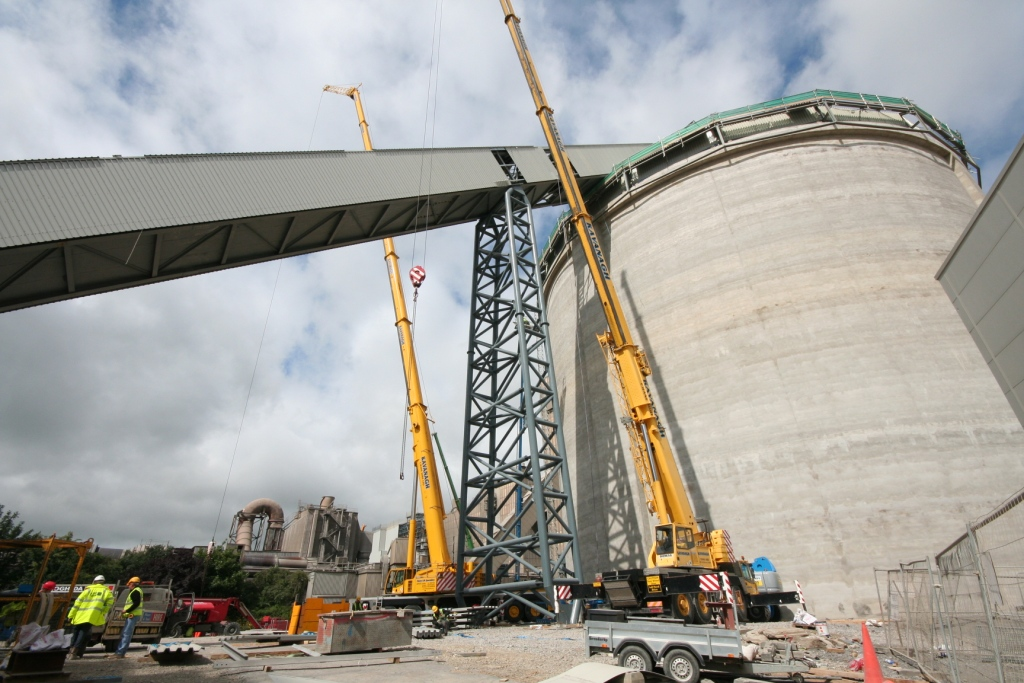crane: (484, 1, 789, 626), (326, 81, 449, 627)
